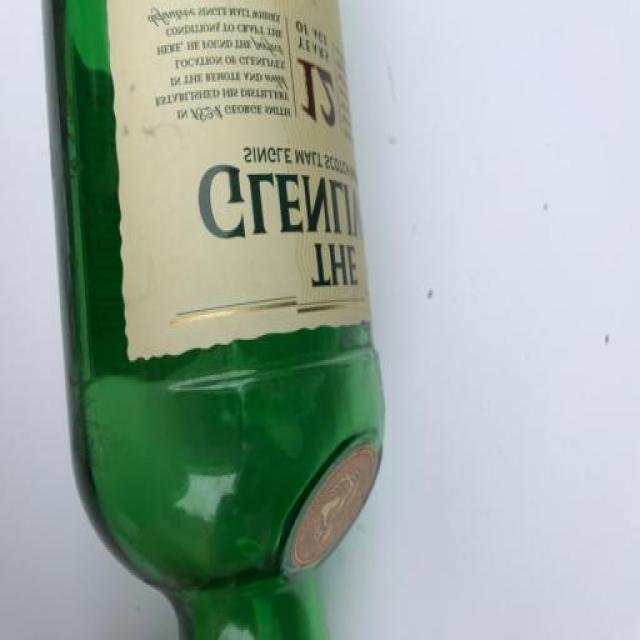glass: (41, 0, 386, 640)
